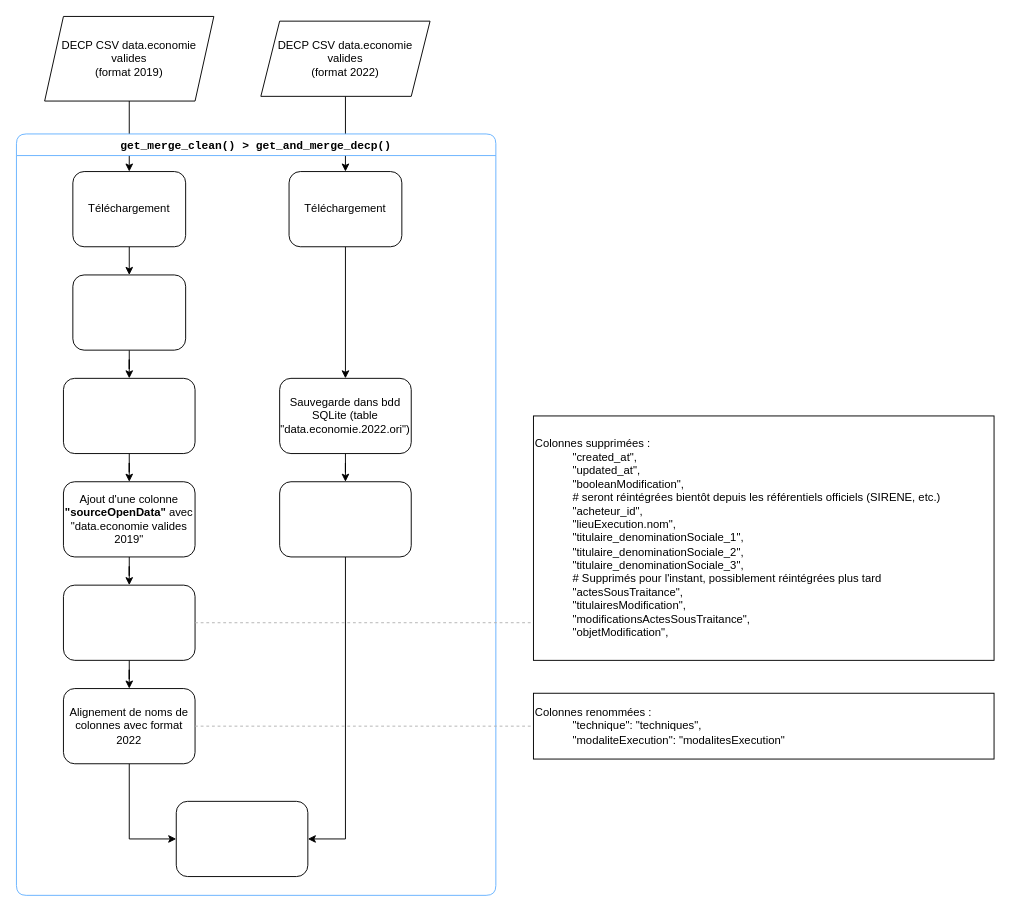
The diagram is 1011 pixels wide and 912 high, and some of its shapes have lost their labels. The centre of each missing label's shape, as x and y in pixels:
Ajout d'une colonne "sourceOpenData" avec "data.economie valides 2022": point (345, 519)
Concaténation des données dans une seule table: point (241, 838)
Sauvegarde dans bdd SQLite (table "data.economie.2019.ori"): point (129, 415)
Suppression de TypePrix car conflit avec typePrix dans SQLite: point (129, 312)
Suppression des colonnes abandonnées dans le format 2022: point (129, 622)
